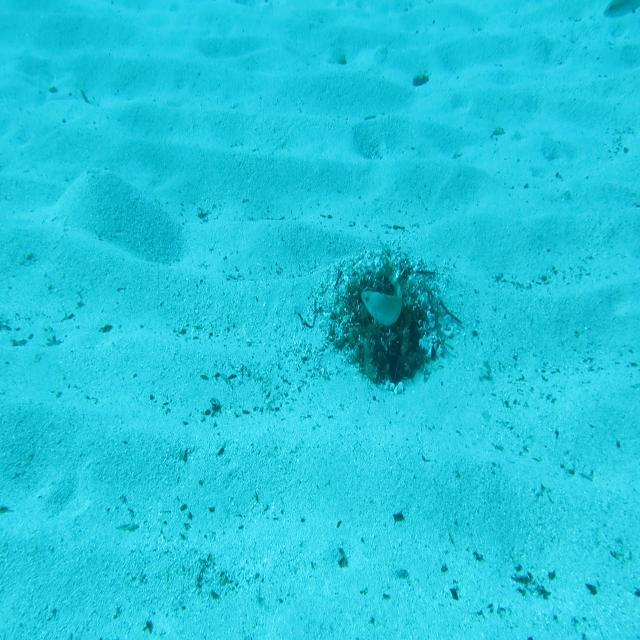BEND: (360, 278, 409, 334)
female: (602, 0, 640, 18)
nest: (324, 242, 462, 390)
